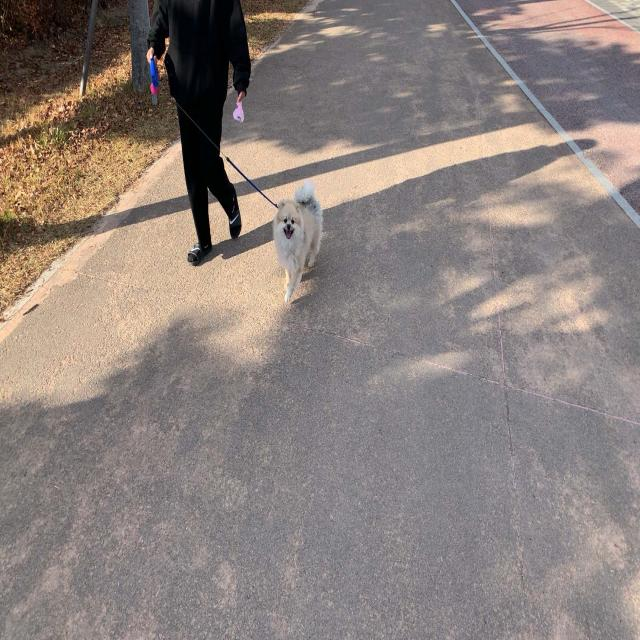Leashed_Dog: (200, 124, 324, 307)
